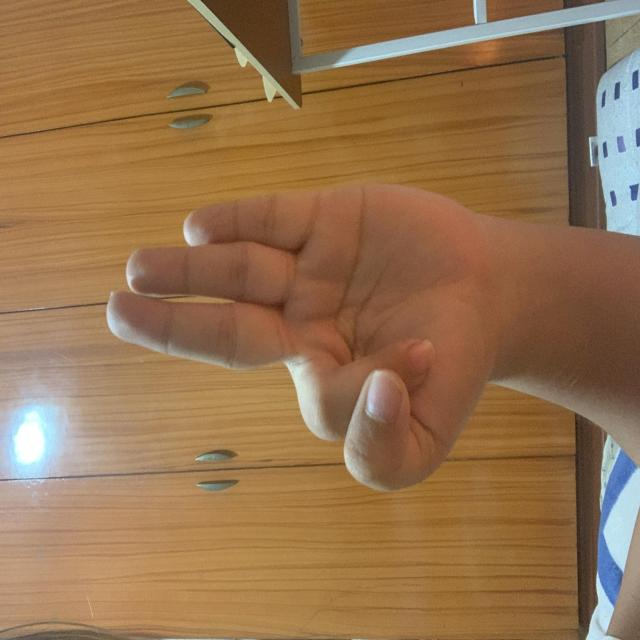F: (178, 104, 492, 500)
